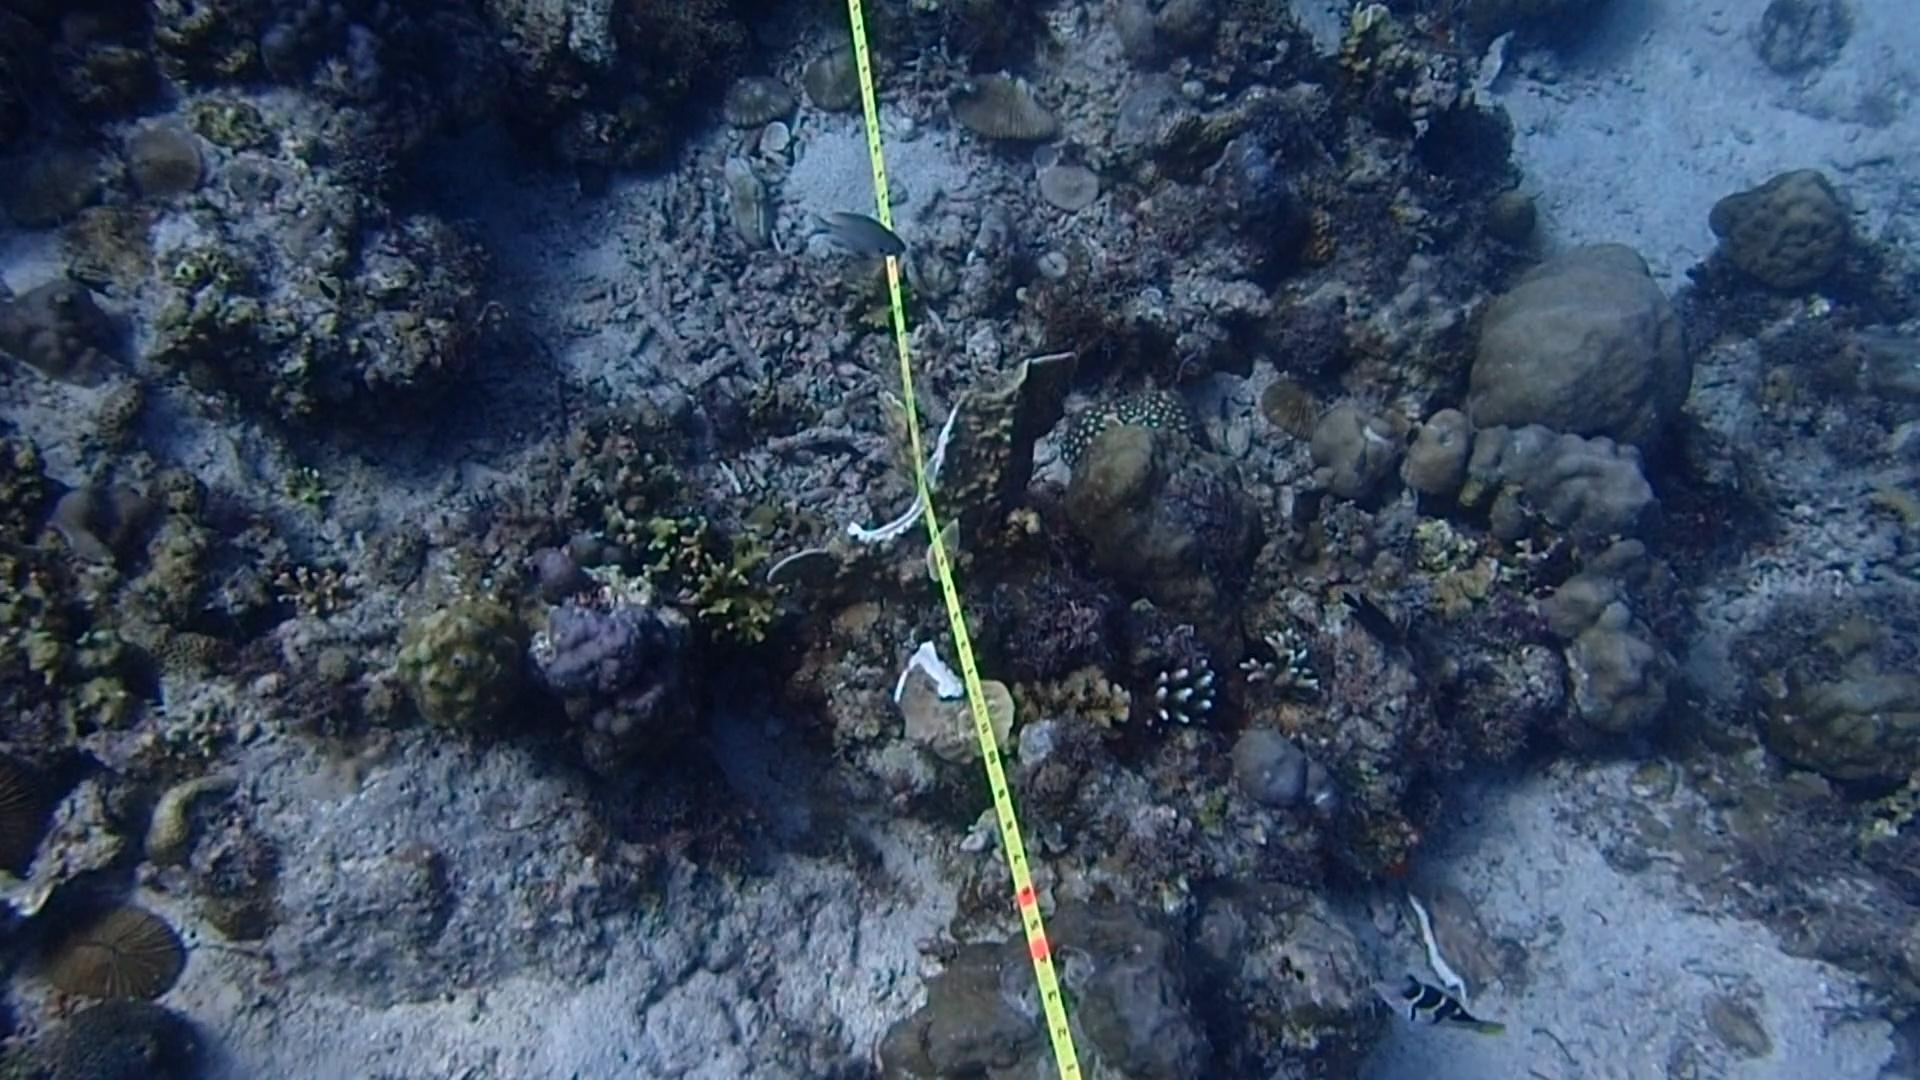Striped Fish: (1389, 973, 1499, 1044)
